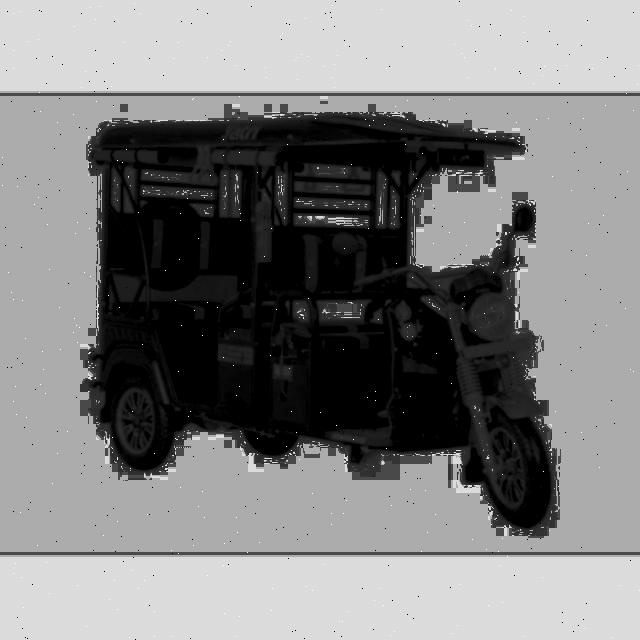Toto: (91, 109, 559, 535)
